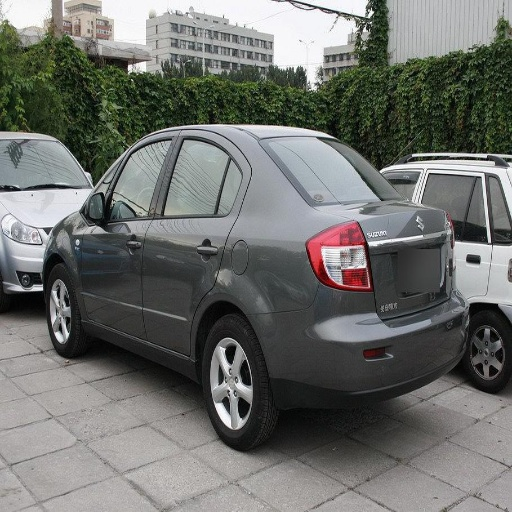back_bumper: (258, 284, 469, 410)
back_glass: (260, 135, 421, 205)
back_left_door: (143, 131, 247, 355)
tailgate: (345, 201, 455, 318)
trunk: (457, 243, 490, 303)
